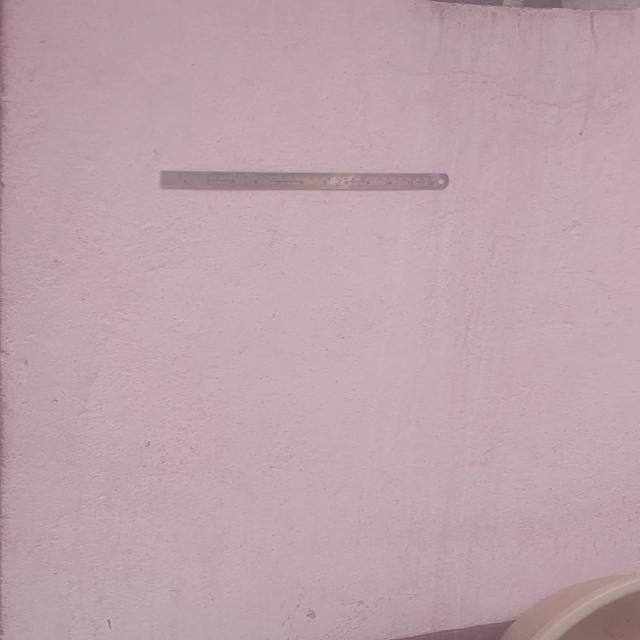scale: (156, 169, 446, 190)
